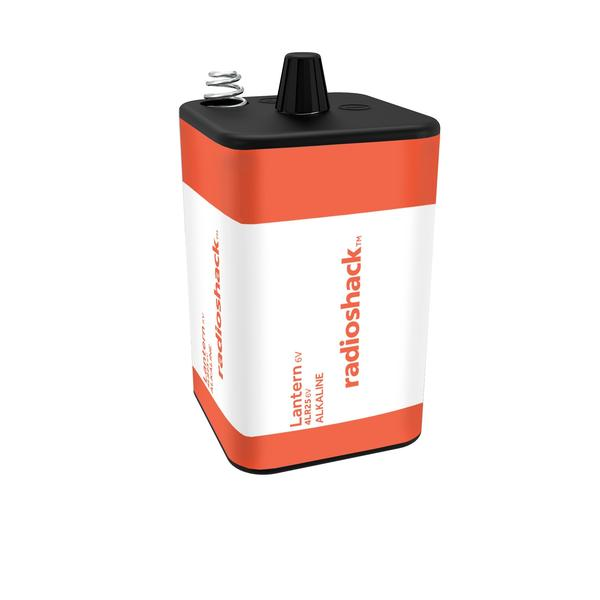6V: (171, 45, 465, 490)
